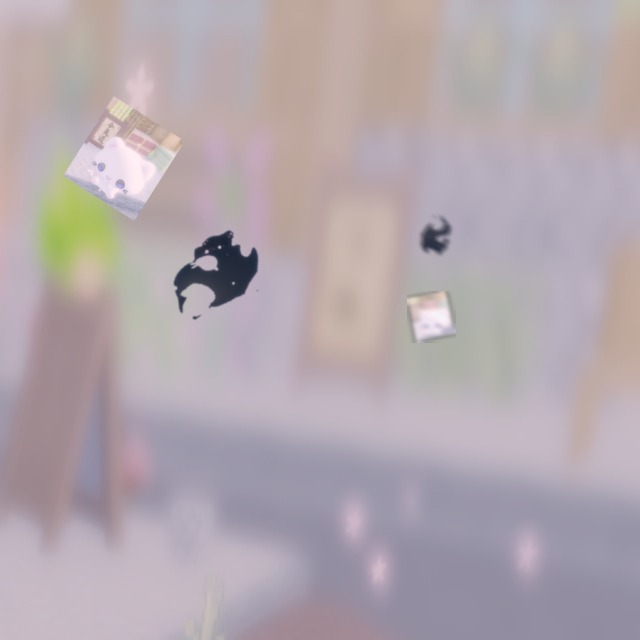urso_branco: (63, 96, 185, 221), (407, 291, 456, 343)
urso_preto: (139, 204, 292, 346), (408, 206, 465, 268)
